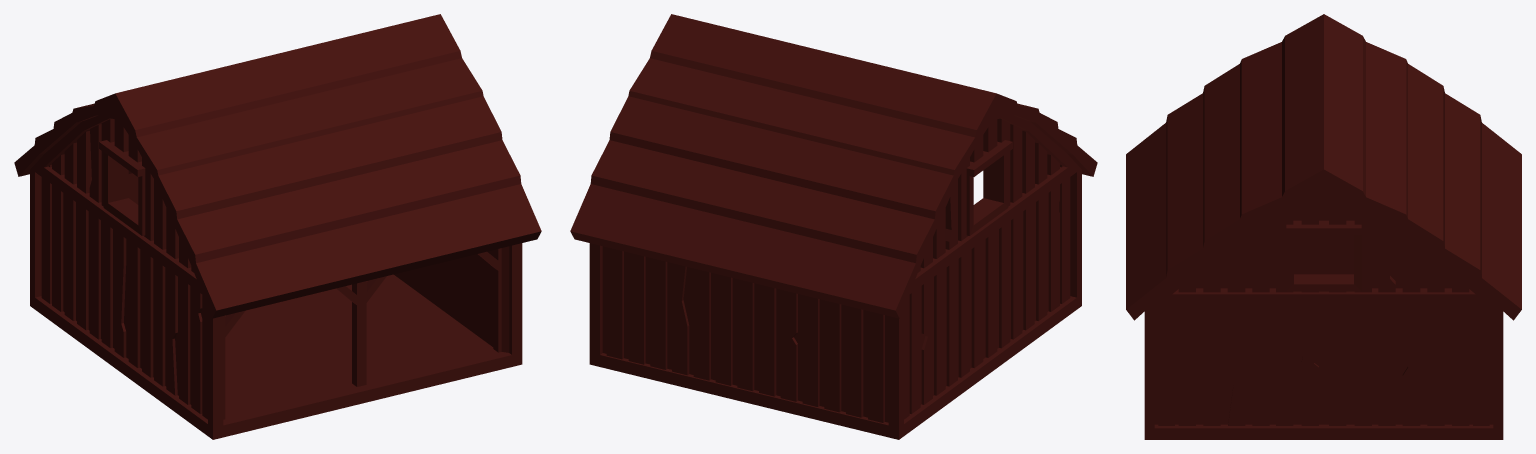
Rendered from farm.openbarn.t1.glb.
3 renders of one model, left to right at view 1: azimuth 30°, elevation 25°; view 2: azimuth 150°, elevation 25°; view 3: azimuth 270°, elevation 25°, orthographic. The views are drawn at different scales.
Bounding box in the file's own units: 0.9291 × 0.7673 × 1.
